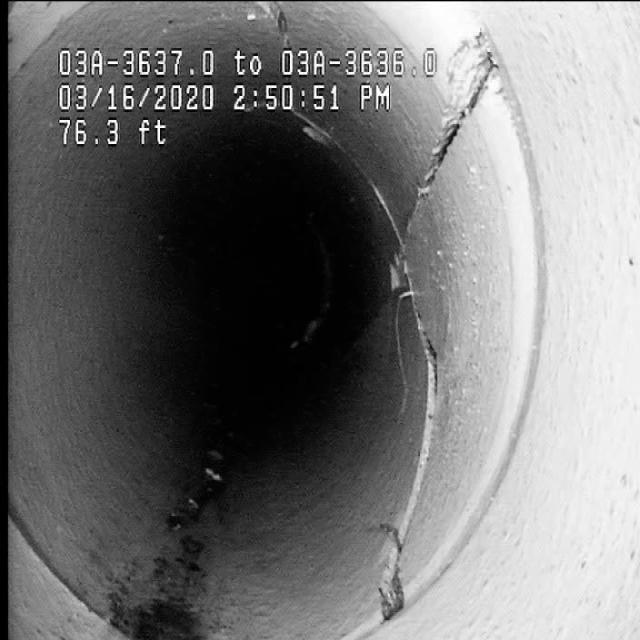Fracture: (381, 209, 460, 571), (417, 34, 522, 188)
